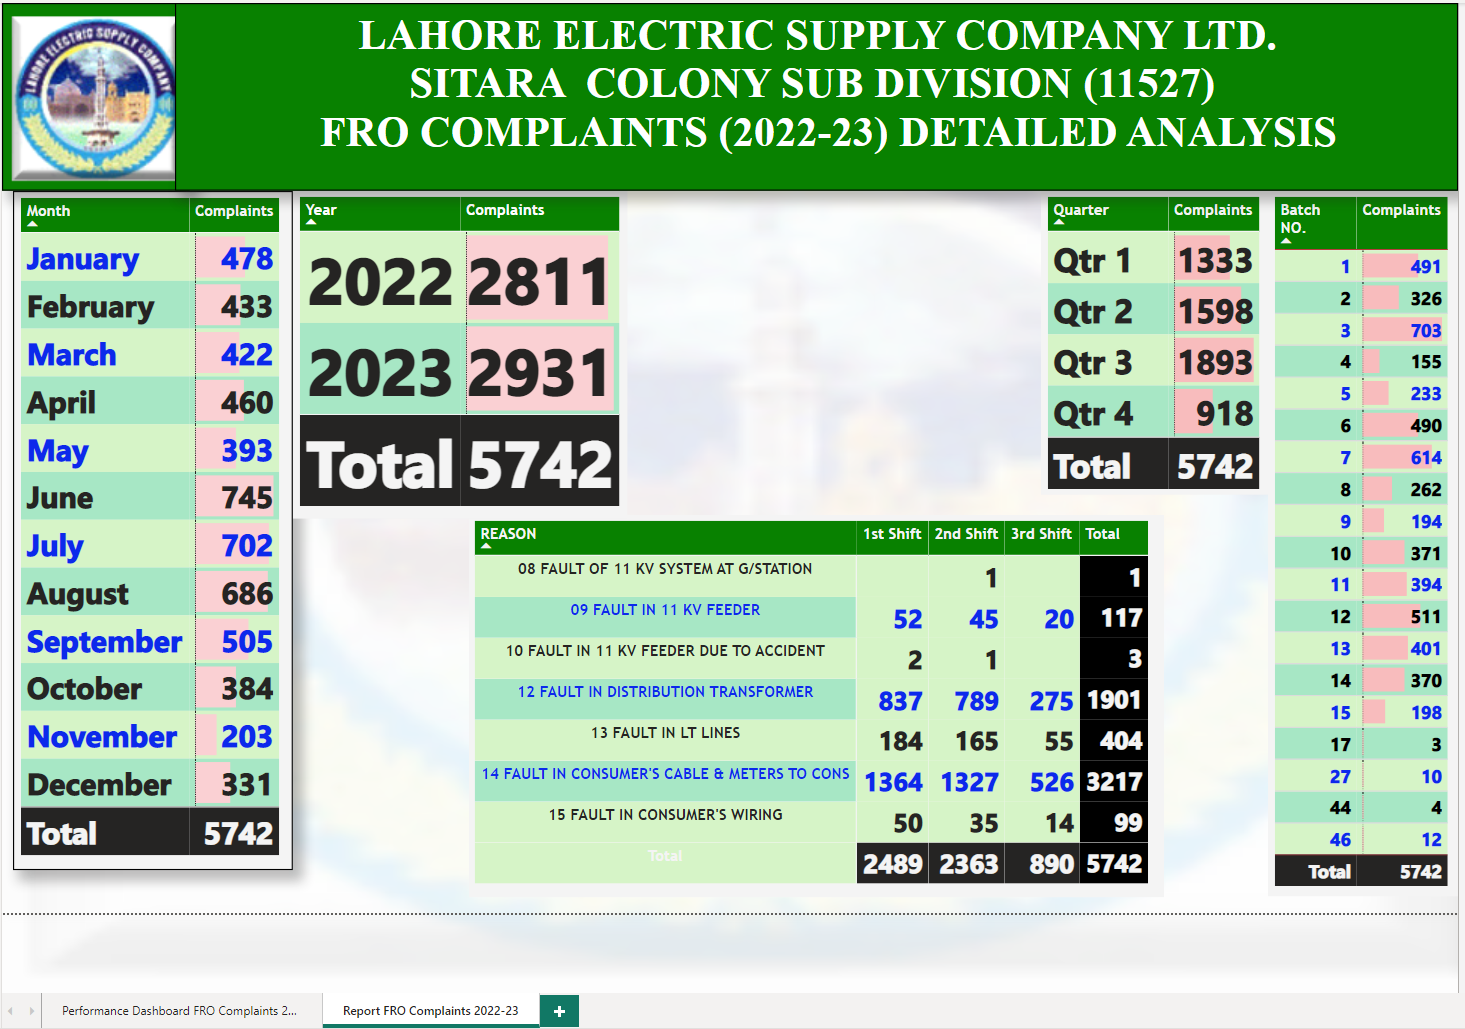

Layout of this report page (visuals, bound fields, positions):
{"tool":"powerbi","page":{"name":"Report FRO Complaints 2022-23","canvas":[1280,800],"ordinal":1},"visuals":[{"type":"pivotTable","fields":{"Rows":["Complaints 2022-23.REASON"],"Values":["CountNonNull(Complaints 2022-23.Complaints)"],"Columns":["Complaints 2022-23.Shifts"]},"box":[410.7,449.8,610.7,335.6],"z":0},{"type":"tableEx","fields":{"Values":["Complaints 2022-23.Batch NO.","CountNonNull(Complaints 2022-23.Complaints)"]},"box":[1113.2,164.9,166.8,620.5],"z":1000},{"type":"tableEx","fields":{"Values":["Complaints 2022-23.SHUT TIME.Variation.Date Hierarchy.Month","Complaints 2022-23.Complaints"]},"box":[9.8,164.9,245.9,597.1],"z":2000},{"type":"tableEx","fields":{"Values":["Complaints 2022-23.SHUT TIME.Variation.Date Hierarchy.Year","Complaints 2022-23.Complaints"]},"box":[255.6,164.9,293.7,287.8],"z":3000},{"type":"tableEx","fields":{"Values":["Complaints 2022-23.SHUT TIME.Variation.Date Hierarchy.Quarter","Complaints 2022-23.Complaints"]},"box":[913.2,164.9,200,267.3],"z":4000},{"type":"image","box":[0,0,165,165],"z":5000},{"type":"textbox","box":[152,0,1128,165],"z":6000}]}

Visuals, with their boxes on the page's 1280x800 design canvas (x1, y1, x2, y2). These are canvas units, not pixel positions in the 1465x1029 screenshot, which may show the page scaled, cropped or inside an application window:
pivotTable - Complaints 2022-23.REASON x CountNonNull(Complaints 2022-23.Complaints): bbox(411, 450, 1021, 785)
tableEx - Complaints 2022-23.Batch NO. x CountNonNull(Complaints 2022-23.Complaints): bbox(1113, 165, 1280, 785)
tableEx - Complaints 2022-23.SHUT TIME.Variation.Date Hierarchy.Month x Complaints 2022-23.Complaints: bbox(10, 165, 256, 762)
tableEx - Complaints 2022-23.SHUT TIME.Variation.Date Hierarchy.Year x Complaints 2022-23.Complaints: bbox(256, 165, 549, 453)
tableEx - Complaints 2022-23.SHUT TIME.Variation.Date Hierarchy.Quarter x Complaints 2022-23.Complaints: bbox(913, 165, 1113, 432)
image: bbox(0, 0, 165, 165)
textbox: bbox(152, 0, 1280, 165)
